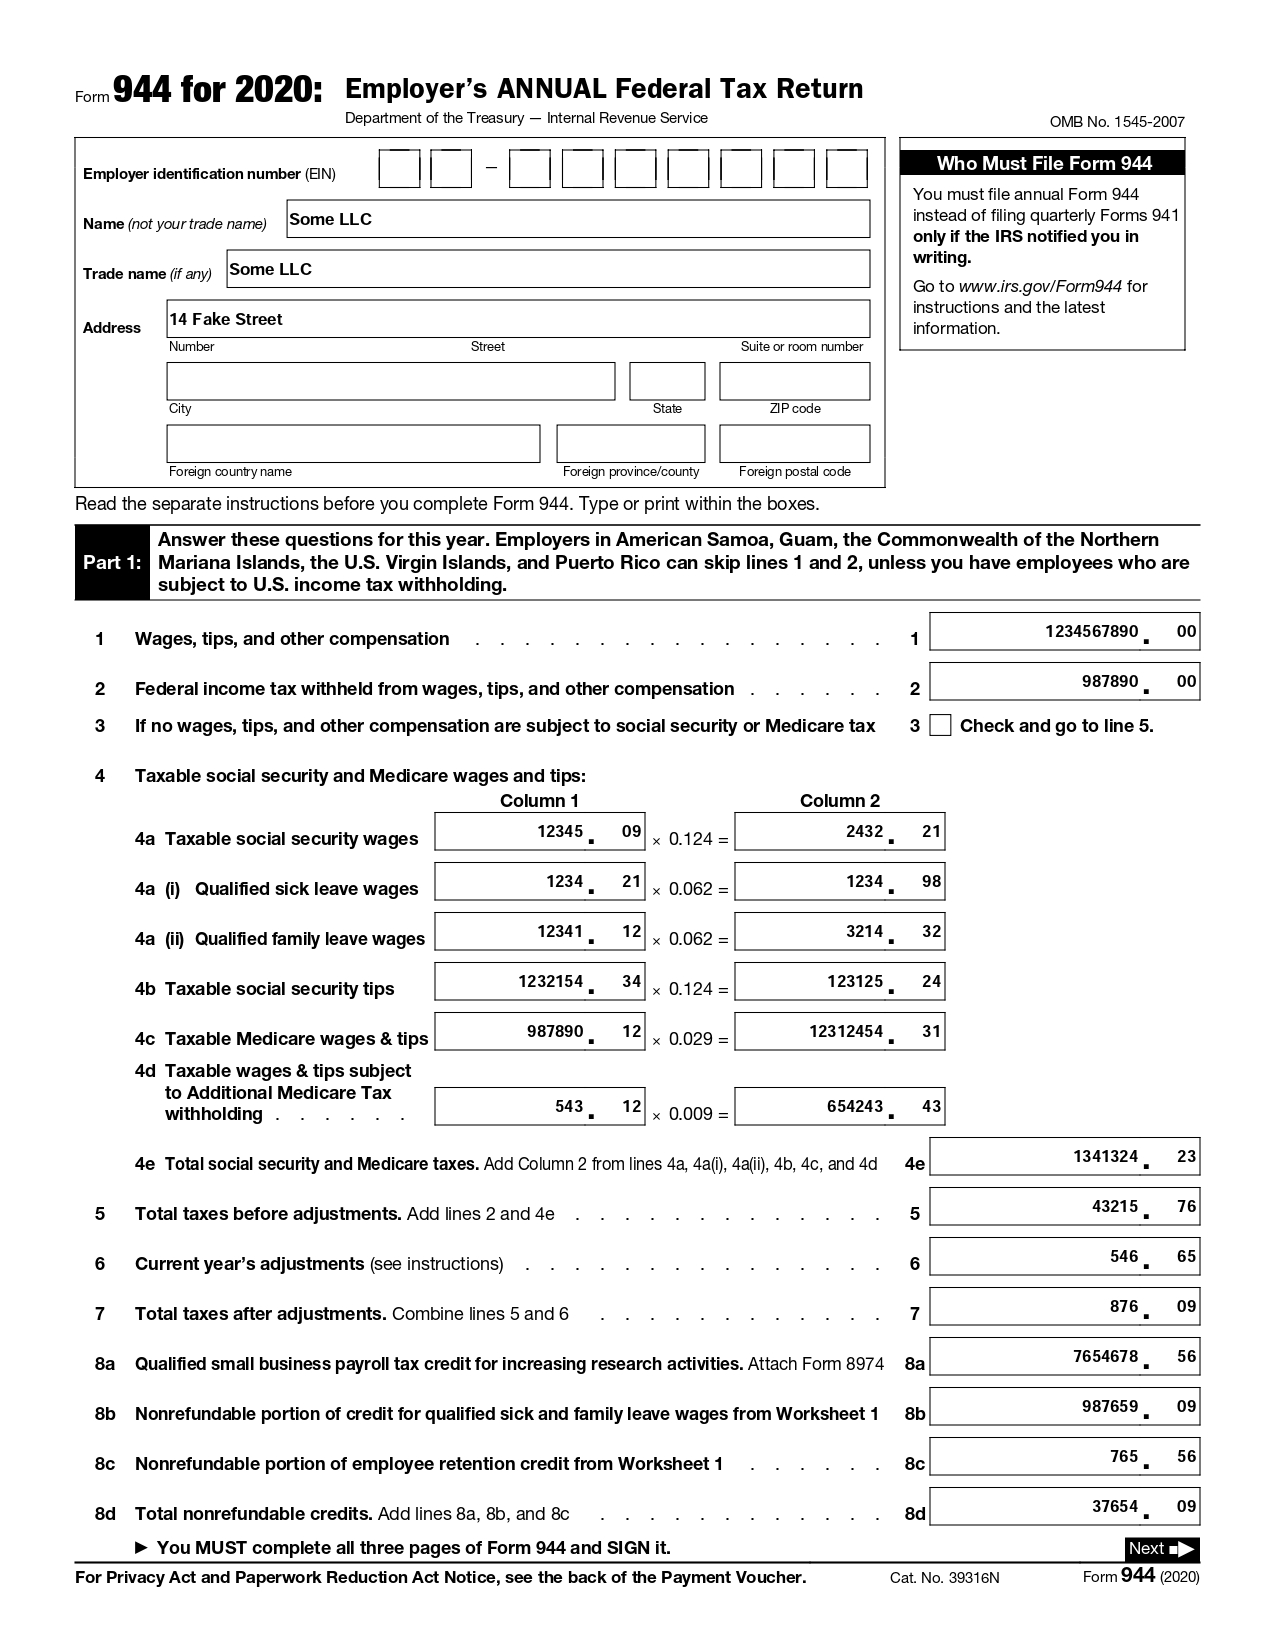form: (70, 134, 891, 494)
table: (71, 607, 1221, 1529)
